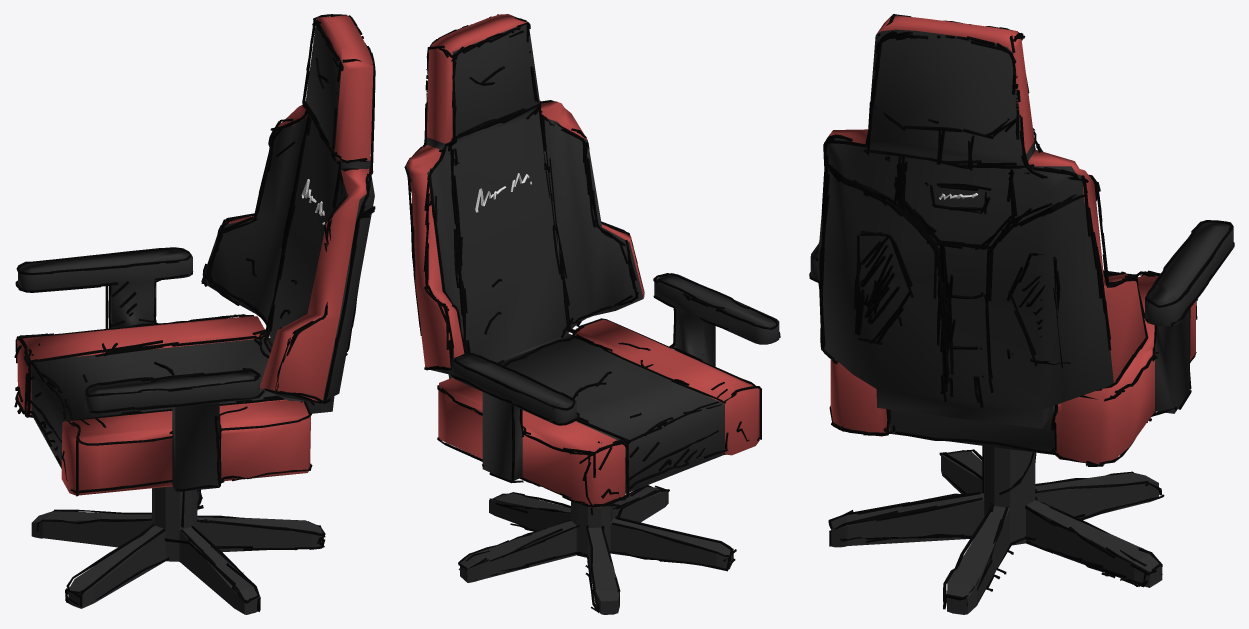
3 views of the same model, side by side, from view 1: azimuth 30°, elevation 25°; view 2: azimuth 150°, elevation 25°; view 3: azimuth 270°, elevation 25° (orthographic). The views are drawn at different scales.
Parts seen in each view (by area): view 1: chair_.001, lines_black_chair, chair_, lines_black_chair.001; view 2: chair_.001, lines_black_chair, chair_, lines_black_chair.001; view 3: chair_.001, lines_black_chair, chair_, lines_black_chair.001.
Part boxes in pixels (bbox=[...]): chair_.001: bbox=[17, 15, 374, 495]; lines_black_chair: bbox=[14, 14, 375, 496]; chair_: bbox=[31, 486, 323, 614]; lines_black_chair.001: bbox=[37, 489, 325, 611]; chair_.001: bbox=[406, 14, 779, 507]; lines_black_chair: bbox=[404, 14, 780, 507]; chair_: bbox=[460, 487, 732, 614]; lines_black_chair.001: bbox=[458, 485, 736, 612]; chair_.001: bbox=[810, 15, 1233, 464]; lines_black_chair: bbox=[809, 14, 1234, 466]; chair_: bbox=[831, 446, 1162, 614]; lines_black_chair.001: bbox=[828, 445, 1164, 609].
Bounding box in the file's own units: 1.07 × 1.63 × 1.04.
